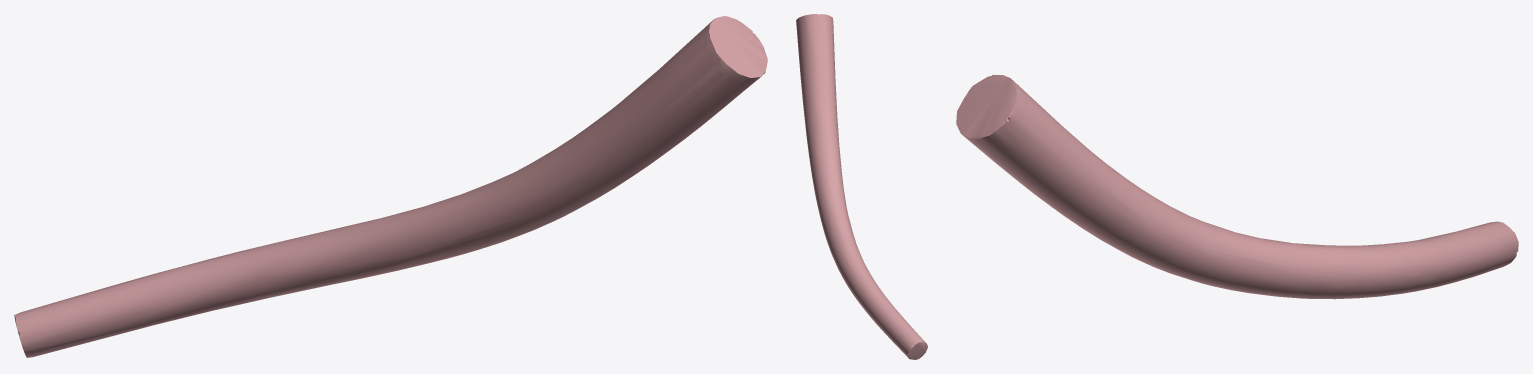
Rendered from fma68221_fj2487.glb.
3 renders of one model, left to right at view 1: azimuth 30°, elevation 25°; view 2: azimuth 150°, elevation 25°; view 3: azimuth 270°, elevation 25°, orthographic. The views are drawn at different scales.
Visible parts, largest first — view 1: FMA68221_FJ2487; view 2: FMA68221_FJ2487; view 3: FMA68221_FJ2487.
Part boxes in pixels (<box>): FMA68221_FJ2487: <box>14,16,767,357</box>; FMA68221_FJ2487: <box>796,14,927,359</box>; FMA68221_FJ2487: <box>956,74,1518,299</box>.
Size of the model in its own units: 0.031 by 0.0239 by 0.0301.
